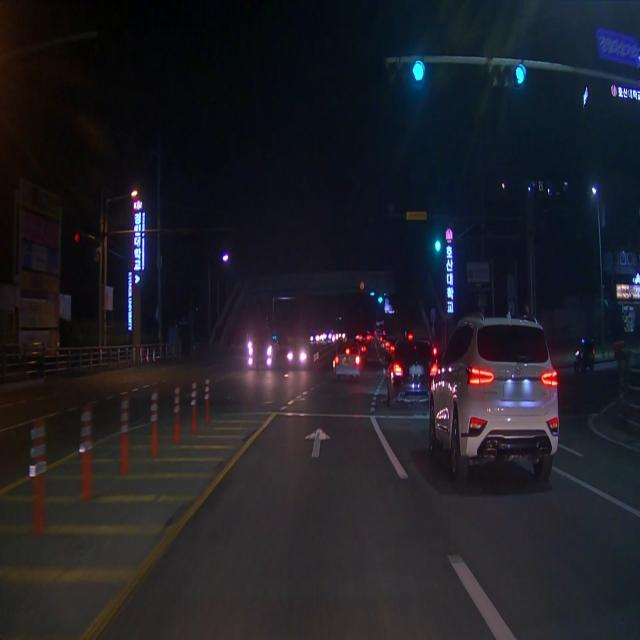Green Light: (410, 57, 428, 86), (512, 60, 528, 89), (433, 238, 443, 255)
